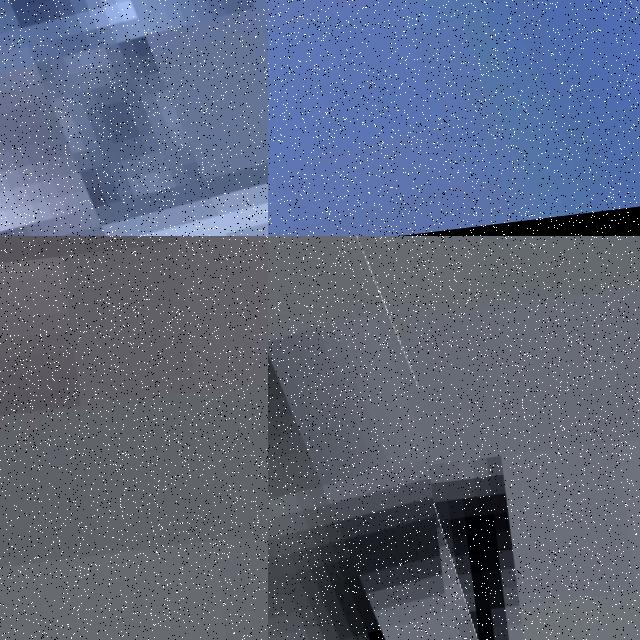drone: (268, 0, 640, 236), (268, 236, 456, 640), (0, 0, 268, 236)
